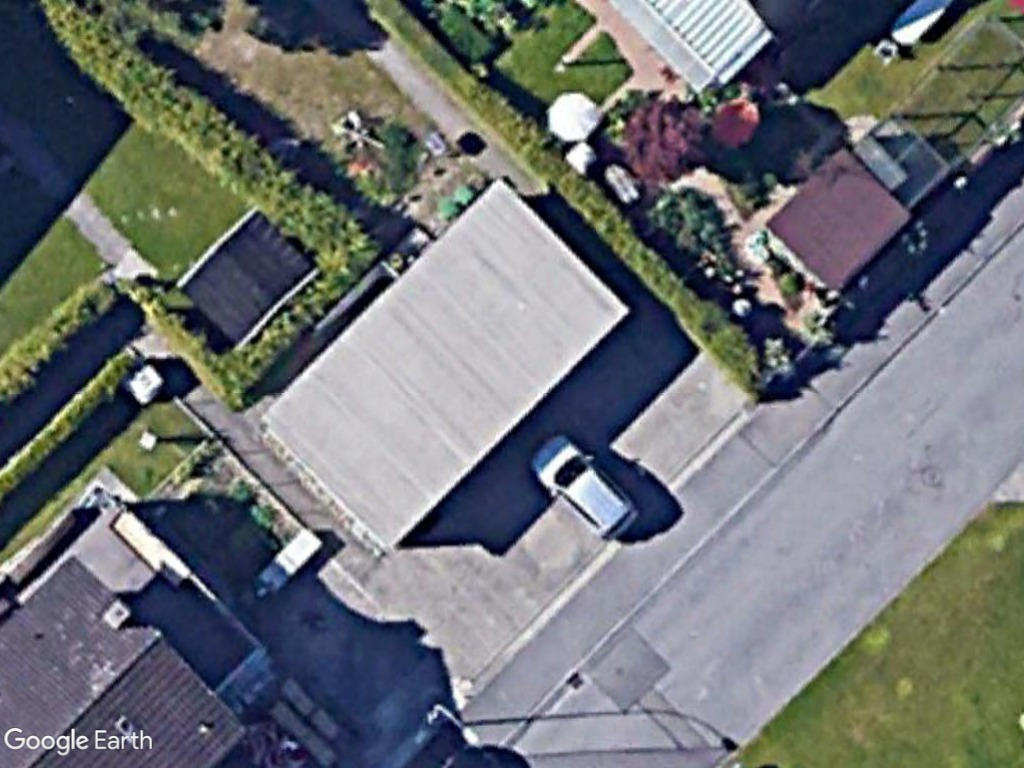car: (532, 432, 642, 543)
